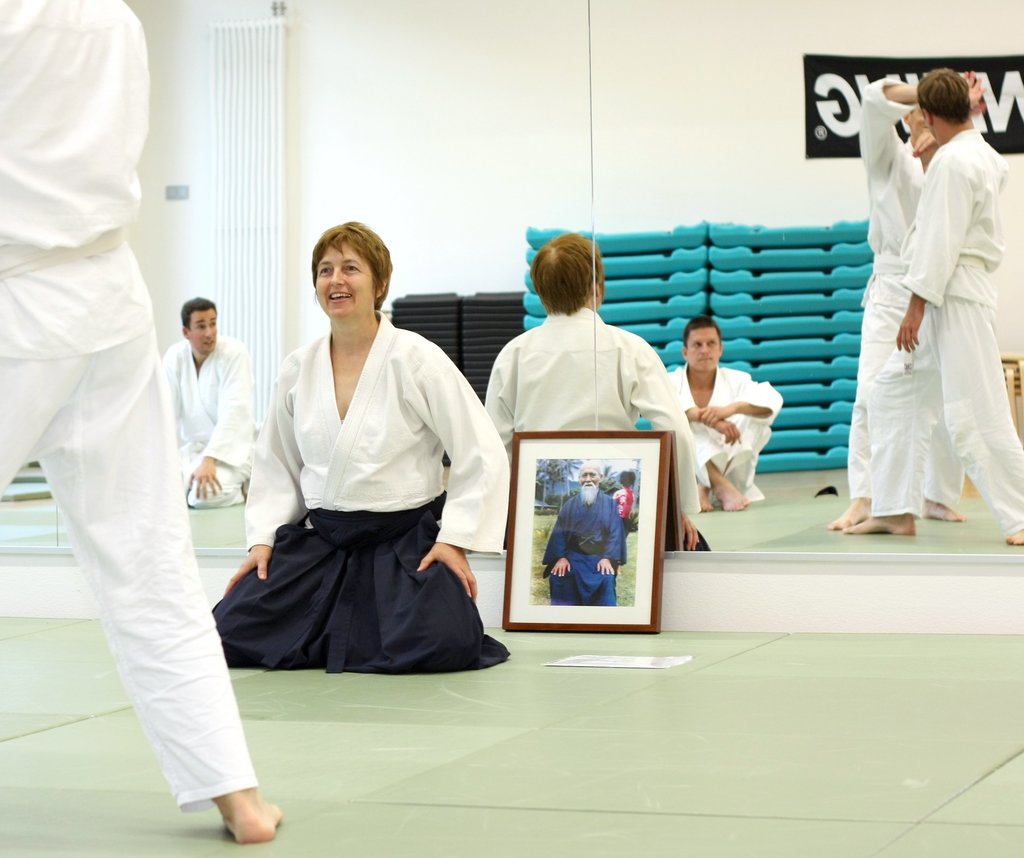Human_hand: (420, 541, 475, 605), (222, 545, 272, 593), (896, 295, 922, 354), (193, 457, 223, 495), (700, 406, 733, 429), (715, 418, 736, 446), (967, 72, 984, 105), (549, 560, 572, 580), (597, 558, 613, 575)
